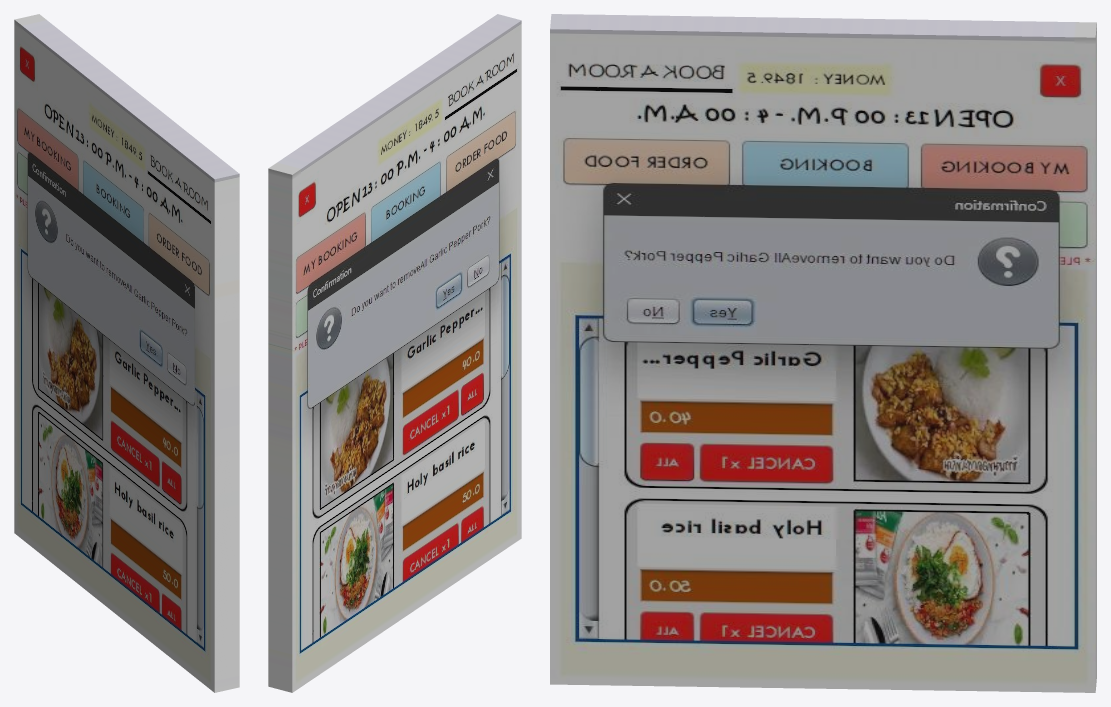
The model's file is image4.glb.
3 views of the same model, side by side, from view 1: azimuth 30°, elevation 25°; view 2: azimuth 150°, elevation 25°; view 3: azimuth 270°, elevation 25° (orthographic). The views are drawn at different scales.
Parts seen in each view (by area): view 1: 825259946_916244767977996_3508614343141867356_n; view 2: 825259946_916244767977996_3508614343141867356_n; view 3: 825259946_916244767977996_3508614343141867356_n.
Boxes of the visible parts, x1,y1,x2,y2 form: 825259946_916244767977996_3508614343141867356_n: (14,14,239,692); 825259946_916244767977996_3508614343141867356_n: (268,14,521,692); 825259946_916244767977996_3508614343141867356_n: (550,14,1096,692).
Bounding box in the file's own units: 0.2156 × 2.79 × 2.11.
Materials: 1 (1 with a texture image).
